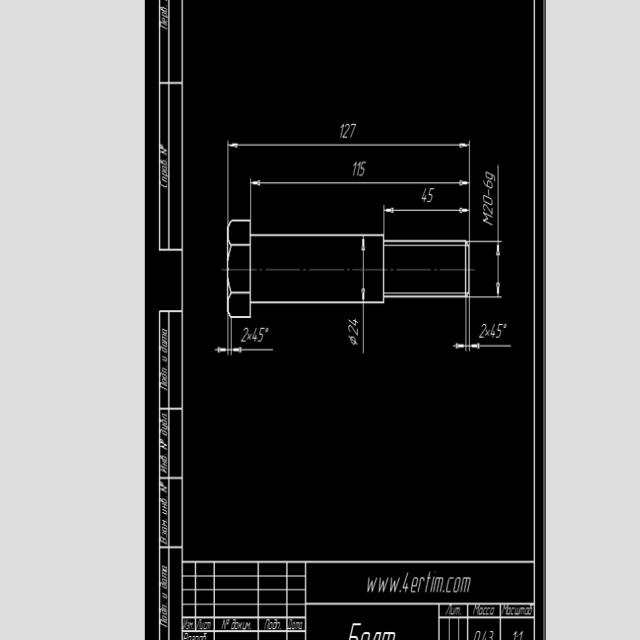marking_line: (225, 139, 472, 218), (249, 178, 472, 218), (453, 298, 515, 353), (383, 205, 472, 233), (214, 319, 274, 356), (469, 239, 502, 298), (361, 237, 366, 301)
numeric: (241, 325, 249, 343), (427, 186, 435, 203), (482, 202, 493, 214), (258, 327, 266, 343), (479, 323, 487, 339), (348, 325, 359, 336), (482, 194, 493, 205), (343, 123, 351, 138), (496, 323, 504, 338), (482, 179, 493, 189), (486, 171, 496, 182), (350, 123, 357, 138), (360, 162, 367, 176), (490, 322, 496, 338), (351, 161, 357, 176), (252, 326, 257, 343), (348, 319, 358, 326), (422, 187, 426, 202), (340, 124, 344, 138), (246, 332, 252, 341), (356, 162, 360, 175), (485, 330, 490, 337)
special_symbol: (348, 336, 358, 346), (504, 323, 508, 328)
